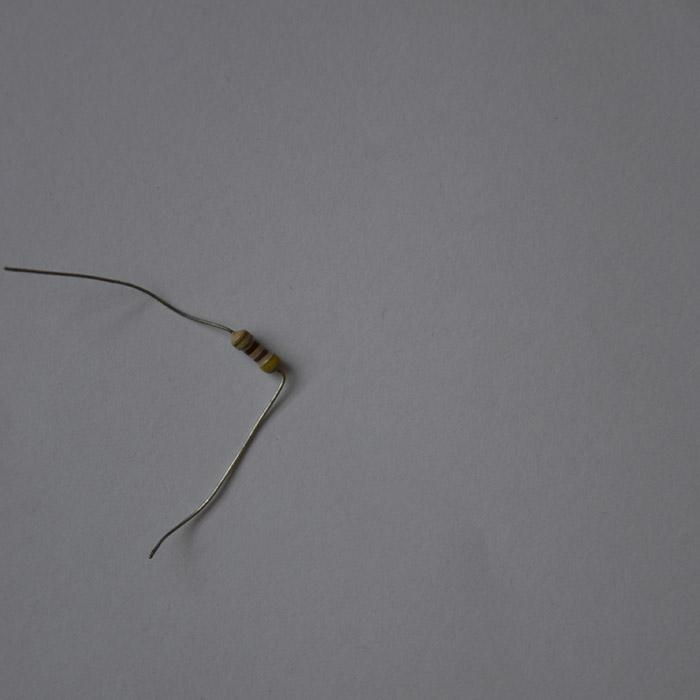resistor: (229, 328, 277, 374)
